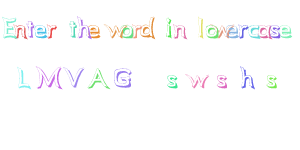A: (88, 67, 111, 92)
E: (1, 13, 17, 42)
G: (112, 63, 135, 93)
L: (14, 61, 33, 92)
M: (35, 64, 63, 91)
a: (259, 21, 271, 42)
c: (248, 22, 260, 42)
d: (141, 13, 157, 41)
e: (88, 20, 102, 42), (280, 19, 294, 40), (35, 20, 47, 42), (226, 21, 239, 41)
h: (235, 64, 258, 93), (77, 13, 90, 42)
i: (164, 15, 174, 40)
l: (194, 12, 206, 42)
n: (173, 19, 187, 42), (15, 21, 27, 42)
o: (205, 22, 221, 42), (121, 21, 134, 41)
r: (132, 20, 142, 46), (237, 19, 248, 41), (46, 21, 57, 40)
s: (161, 68, 183, 92), (262, 69, 283, 93), (213, 69, 233, 93), (271, 20, 281, 42)
t: (66, 18, 78, 41), (26, 17, 37, 39)
v: (65, 64, 85, 90)
w: (185, 69, 212, 92), (104, 19, 125, 43), (214, 22, 230, 40)
